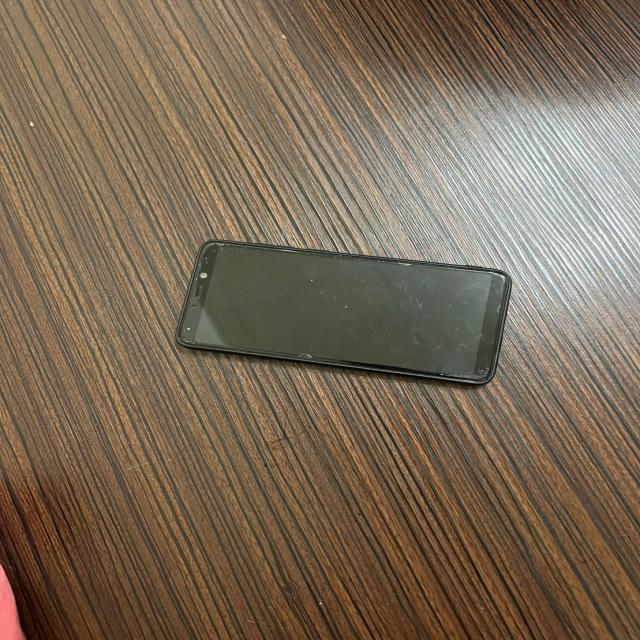phone: (158, 232, 530, 401)
